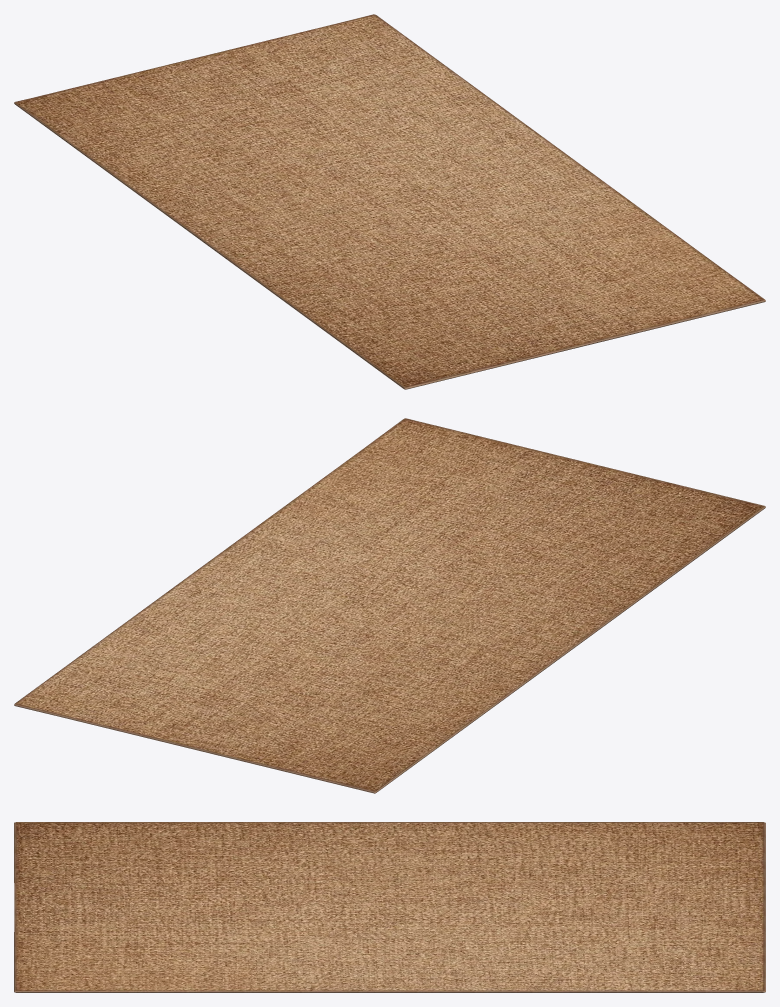
The picture shows the model from 3 angles, top to bottom: view 1: azimuth 30°, elevation 25°; view 2: azimuth 150°, elevation 25°; view 3: azimuth 270°, elevation 25°; orthographic projection. The views are drawn at different scales.
Visible parts, largest first — view 1: Mesh_0; view 2: Mesh_0; view 3: Mesh_0.
Boxes of the visible parts, x1,y1,x2,y2 form: Mesh_0: [14, 14, 765, 389]; Mesh_0: [14, 418, 765, 793]; Mesh_0: [14, 822, 765, 992].
Bounding box in the file's own units: 0.8 × 0.00412 × 1.5.
Materials: 1 (1 with a texture image).
